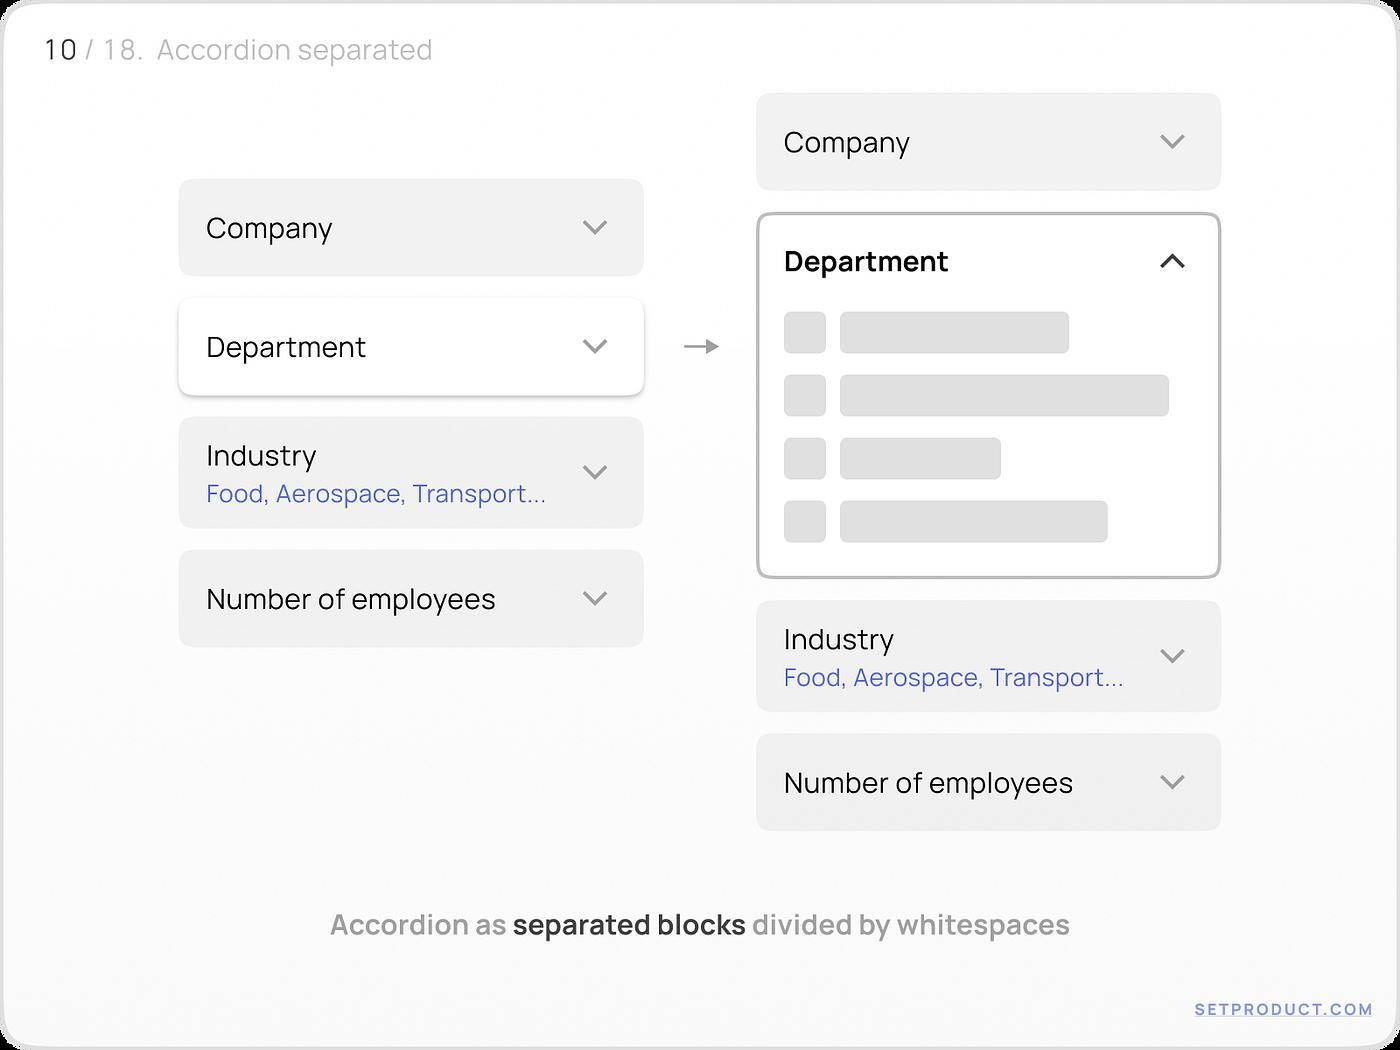dropdown: (174, 414, 650, 535), (754, 598, 1223, 716), (174, 293, 649, 401), (757, 90, 1224, 200), (176, 545, 651, 652), (179, 175, 648, 282), (758, 733, 1232, 834)
label: (314, 906, 1076, 944), (37, 28, 445, 71), (1191, 990, 1377, 1026)
